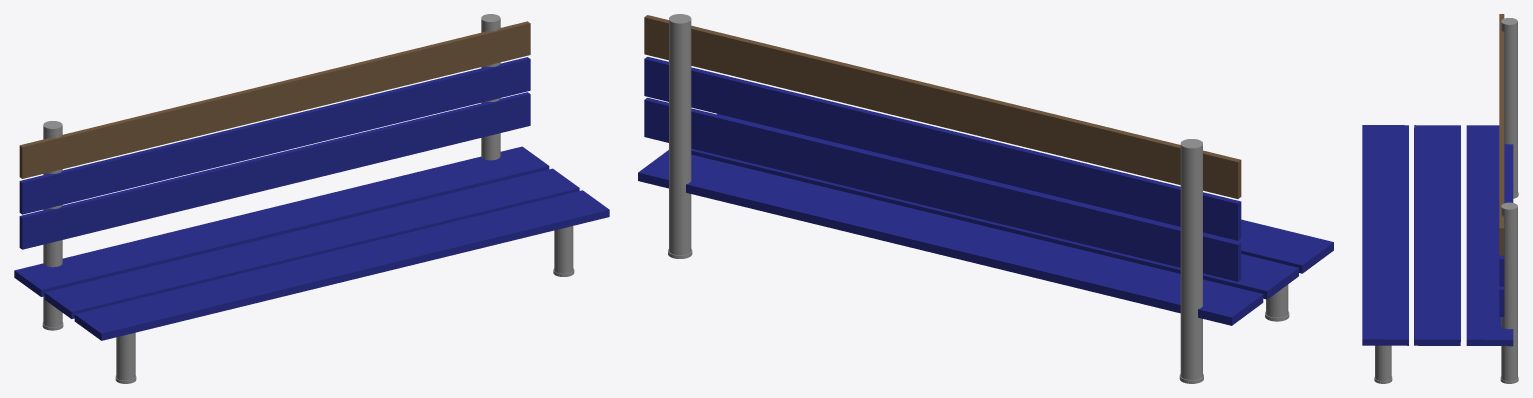
The model's file is banco 1 .fbx.
The picture shows the model from 3 angles, left to right: view 1: azimuth 30°, elevation 25°; view 2: azimuth 150°, elevation 25°; view 3: azimuth 270°, elevation 25°; orthographic projection. The views are drawn at different scales.
Visible parts, largest first — view 1: Cube.010; view 2: Cube.010; view 3: Cube.010.
Boxes of the visible parts, x1,y1,x2,y2 form: Cube.010: (14,14,609,383); Cube.010: (638,14,1333,383); Cube.010: (1362,14,1518,383).
Bounding box in the file's own units: 543 × 205 × 167.
